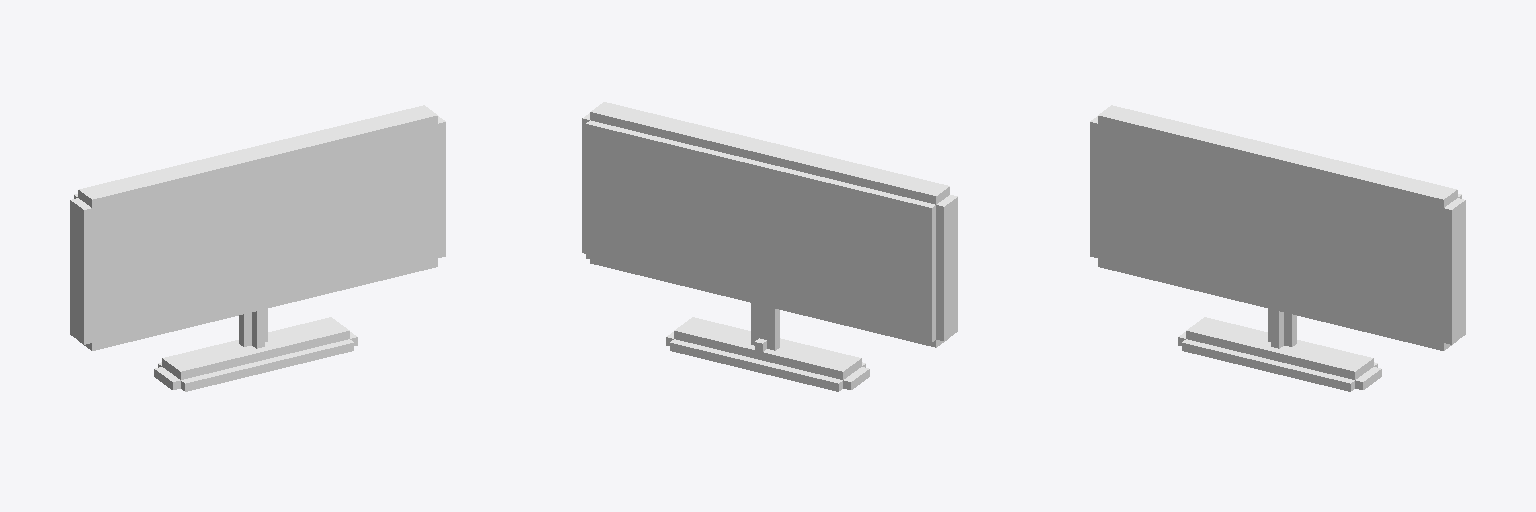
Rendered from Monitor.obj.
3 renders of one model, left to right at view 1: azimuth 30°, elevation 25°; view 2: azimuth 150°, elevation 25°; view 3: azimuth 330°, elevation 25°, orthographic.
Parts seen in each view (by area): view 1: object 1; view 2: object 1; view 3: object 1.
Part boxes in pixels (bbox=[...]): object 1: bbox=[70, 105, 445, 391]; object 1: bbox=[582, 102, 957, 391]; object 1: bbox=[1090, 105, 1465, 391].
Bounding box in the file's own units: 4.5 × 2.5 × 0.6.